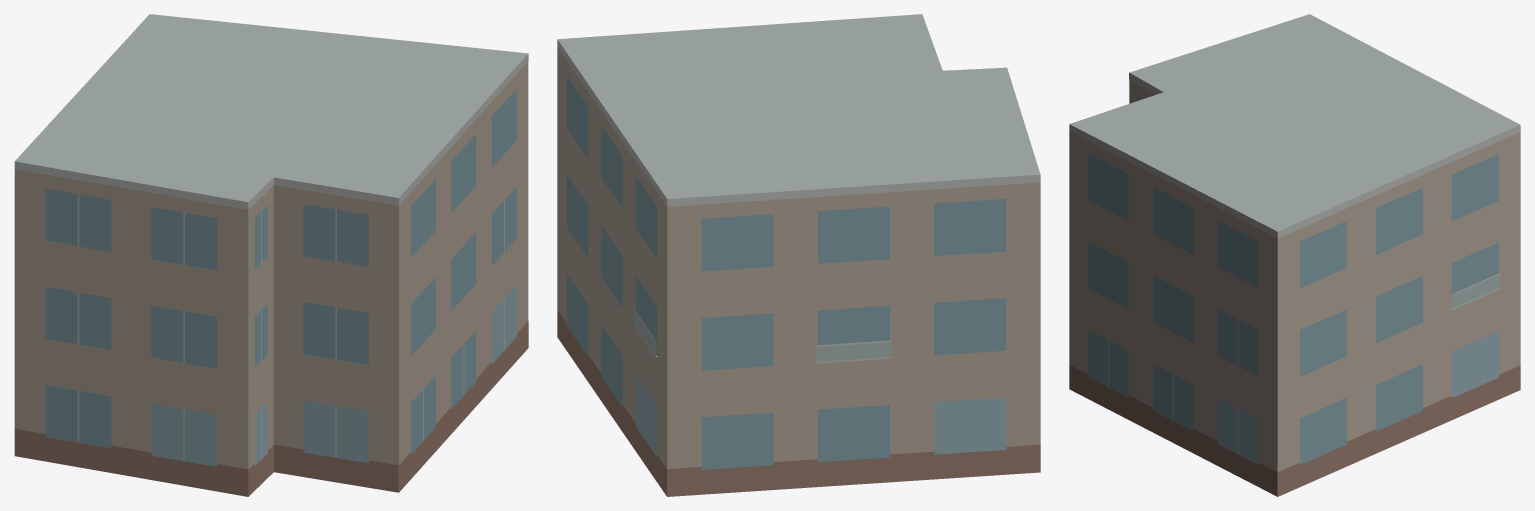
File: survey-upis-32625439.glb
The picture shows the model from 3 angles, left to right: view 1: azimuth 30°, elevation 25°; view 2: azimuth 150°, elevation 25°; view 3: azimuth 270°, elevation 25°; orthographic projection. The views are drawn at different scales.
Parts seen in each view (by area): view 1: survey-upis-32625439.tmp; view 2: survey-upis-32625439.tmp; view 3: survey-upis-32625439.tmp.
Part boxes in pixels (x1,y1,x2,y2): survey-upis-32625439.tmp: (14, 14, 528, 496); survey-upis-32625439.tmp: (557, 14, 1040, 496); survey-upis-32625439.tmp: (1069, 14, 1520, 496).
Size of the model in its own units: 16.57 by 9.4 by 14.51.
